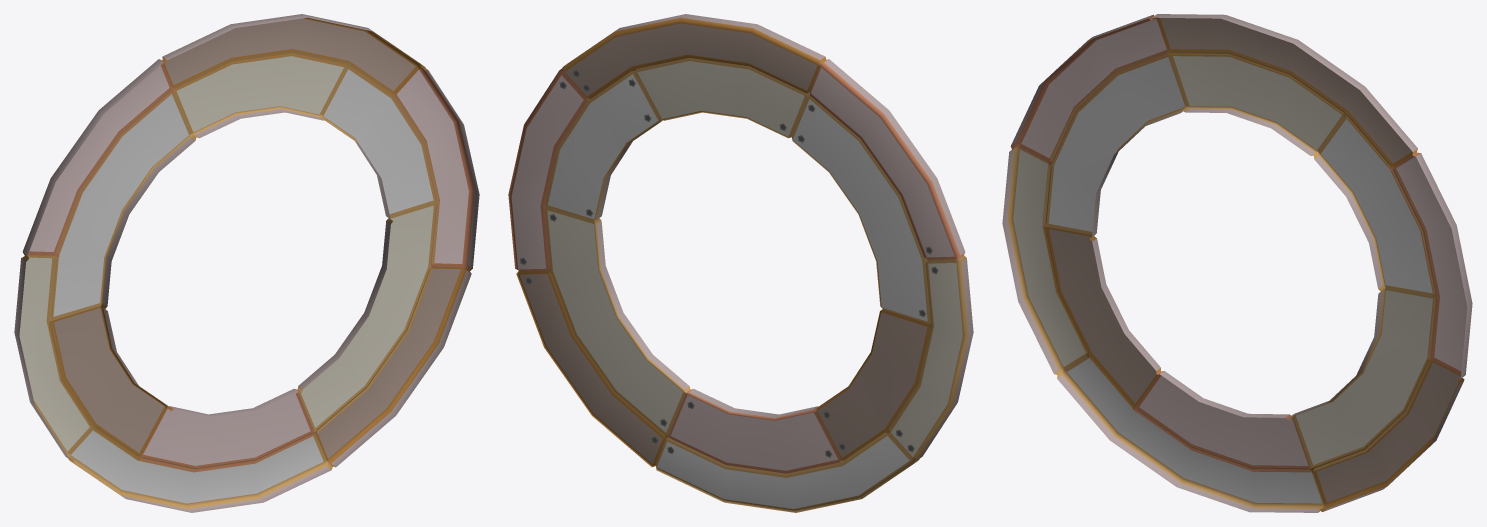
The model's file is MiddleCircle.fbx.
3 views of the same model, side by side, from view 1: azimuth 30°, elevation 25°; view 2: azimuth 150°, elevation 25°; view 3: azimuth 330°, elevation 25° (orthographic).
Parts seen in each view (by area): view 1: MiddleCircleWood; view 2: MiddleCircleWood; view 3: MiddleCircleWood.
Part boxes in pixels (x1=…): MiddleCircleWood: x1=14, y1=14, x2=479, y2=512; MiddleCircleWood: x1=508, y1=14, x2=973, y2=512; MiddleCircleWood: x1=1002, y1=14, x2=1472, y2=512.
Bounding box in the file's own units: 1055 × 1055 × 26.12.
